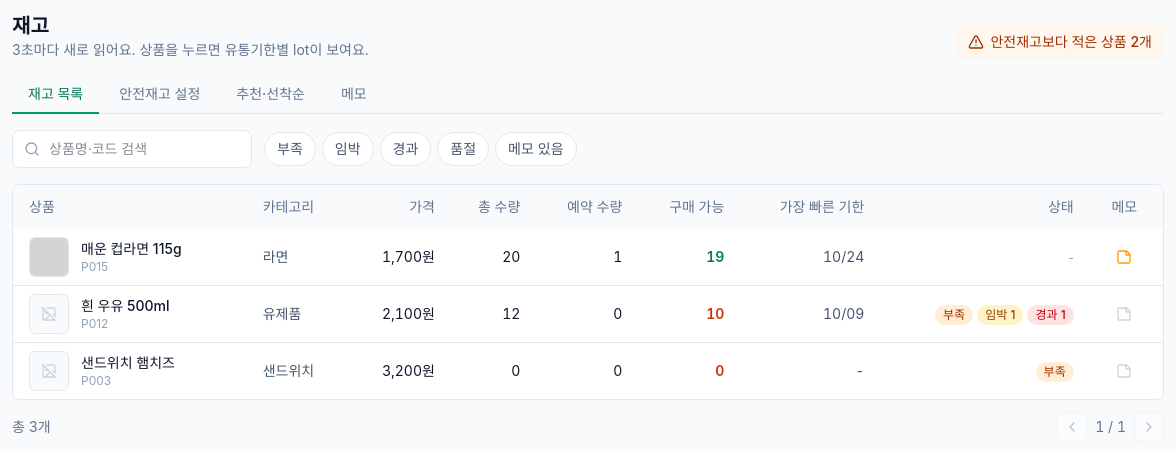
안전재고 부족 표시 (S-40) › 안전재고 설정 탭으로 바꾸면 상품별 안전재고를 읽어 온다
Click the tab "안전재고 설정" at (160, 95), box [103, 76, 216, 114]
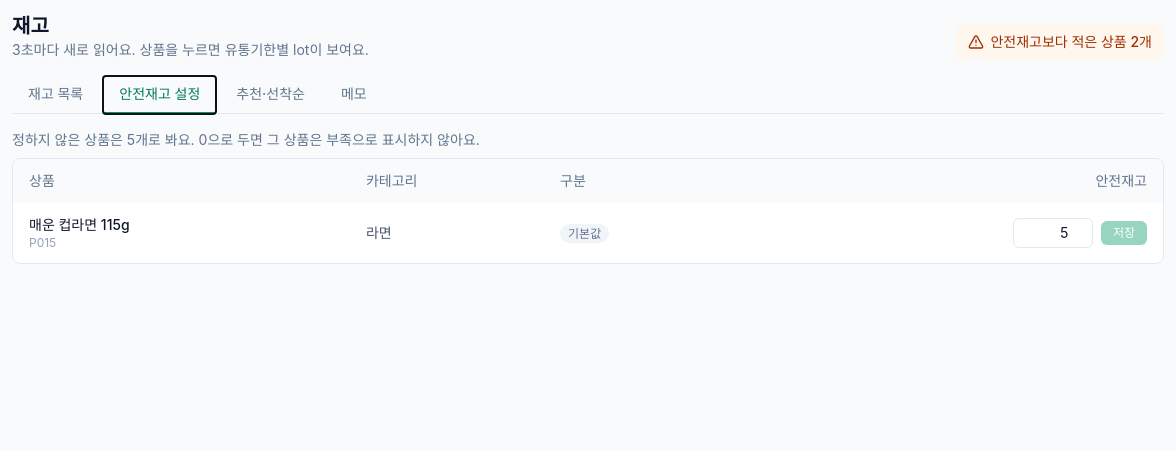
expect the number field named "매운 컵라면 115g 안전재고" holds "5": met, box [1013, 218, 1093, 248]
